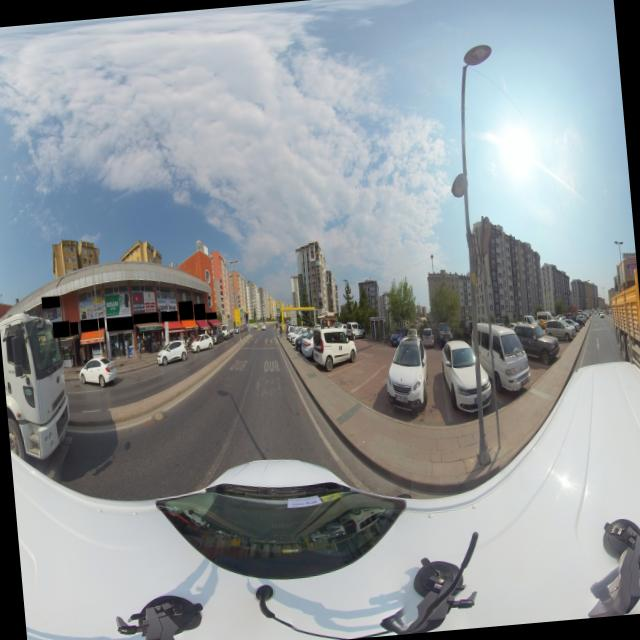SignStore: (106, 316, 133, 331), (132, 312, 158, 324), (52, 320, 70, 337), (178, 301, 194, 320), (80, 318, 98, 331), (42, 296, 59, 308), (160, 310, 178, 321), (70, 321, 78, 334), (193, 304, 205, 312), (194, 312, 206, 319), (205, 313, 217, 319), (98, 317, 104, 328)
